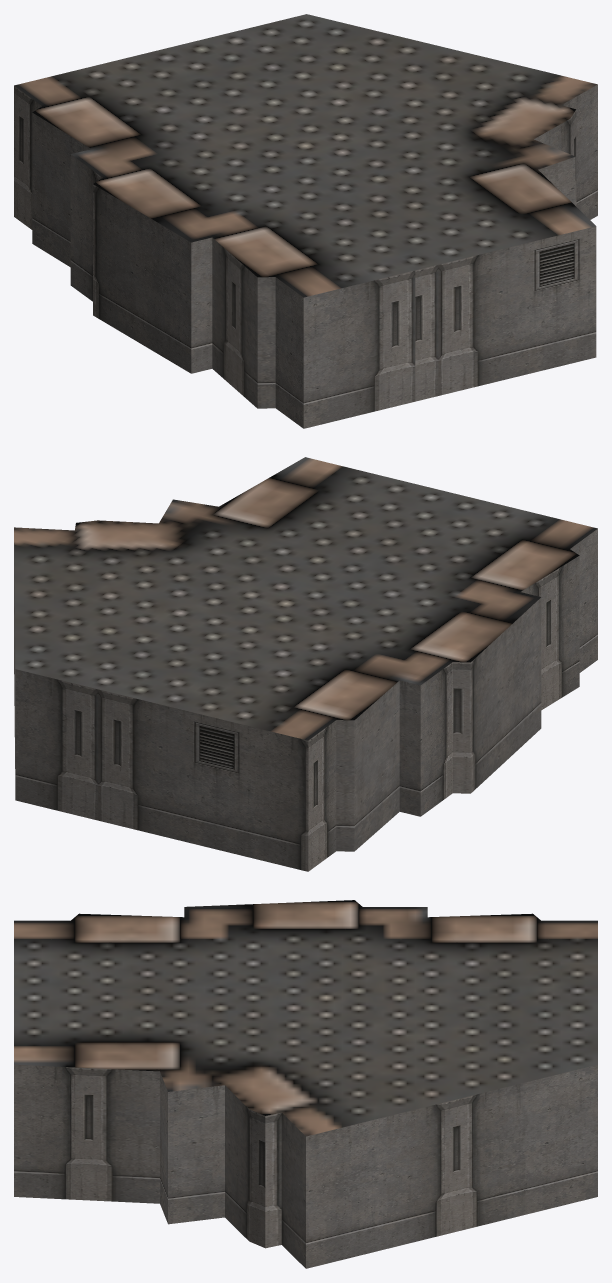
File: building_hard_a_11.glb
3 renders of one model, top to bottom at view 1: azimuth 30°, elevation 25°; view 2: azimuth 150°, elevation 25°; view 3: azimuth 270°, elevation 25°, orthographic.
Parts seen in each view (by area): view 1: buildings/saxarba/building_hard/building_hard_a_11; view 2: buildings/saxarba/building_hard/building_hard_a_11; view 3: buildings/saxarba/building_hard/building_hard_a_11.
Boxes of the visible parts, x1=… form: buildings/saxarba/building_hard/building_hard_a_11: x1=14, y1=14, x2=597, y2=428; buildings/saxarba/building_hard/building_hard_a_11: x1=14, y1=457, x2=597, y2=871; buildings/saxarba/building_hard/building_hard_a_11: x1=14, y1=900, x2=597, y2=1268.
Size of the model in its own units: 69 by 18 by 72.
